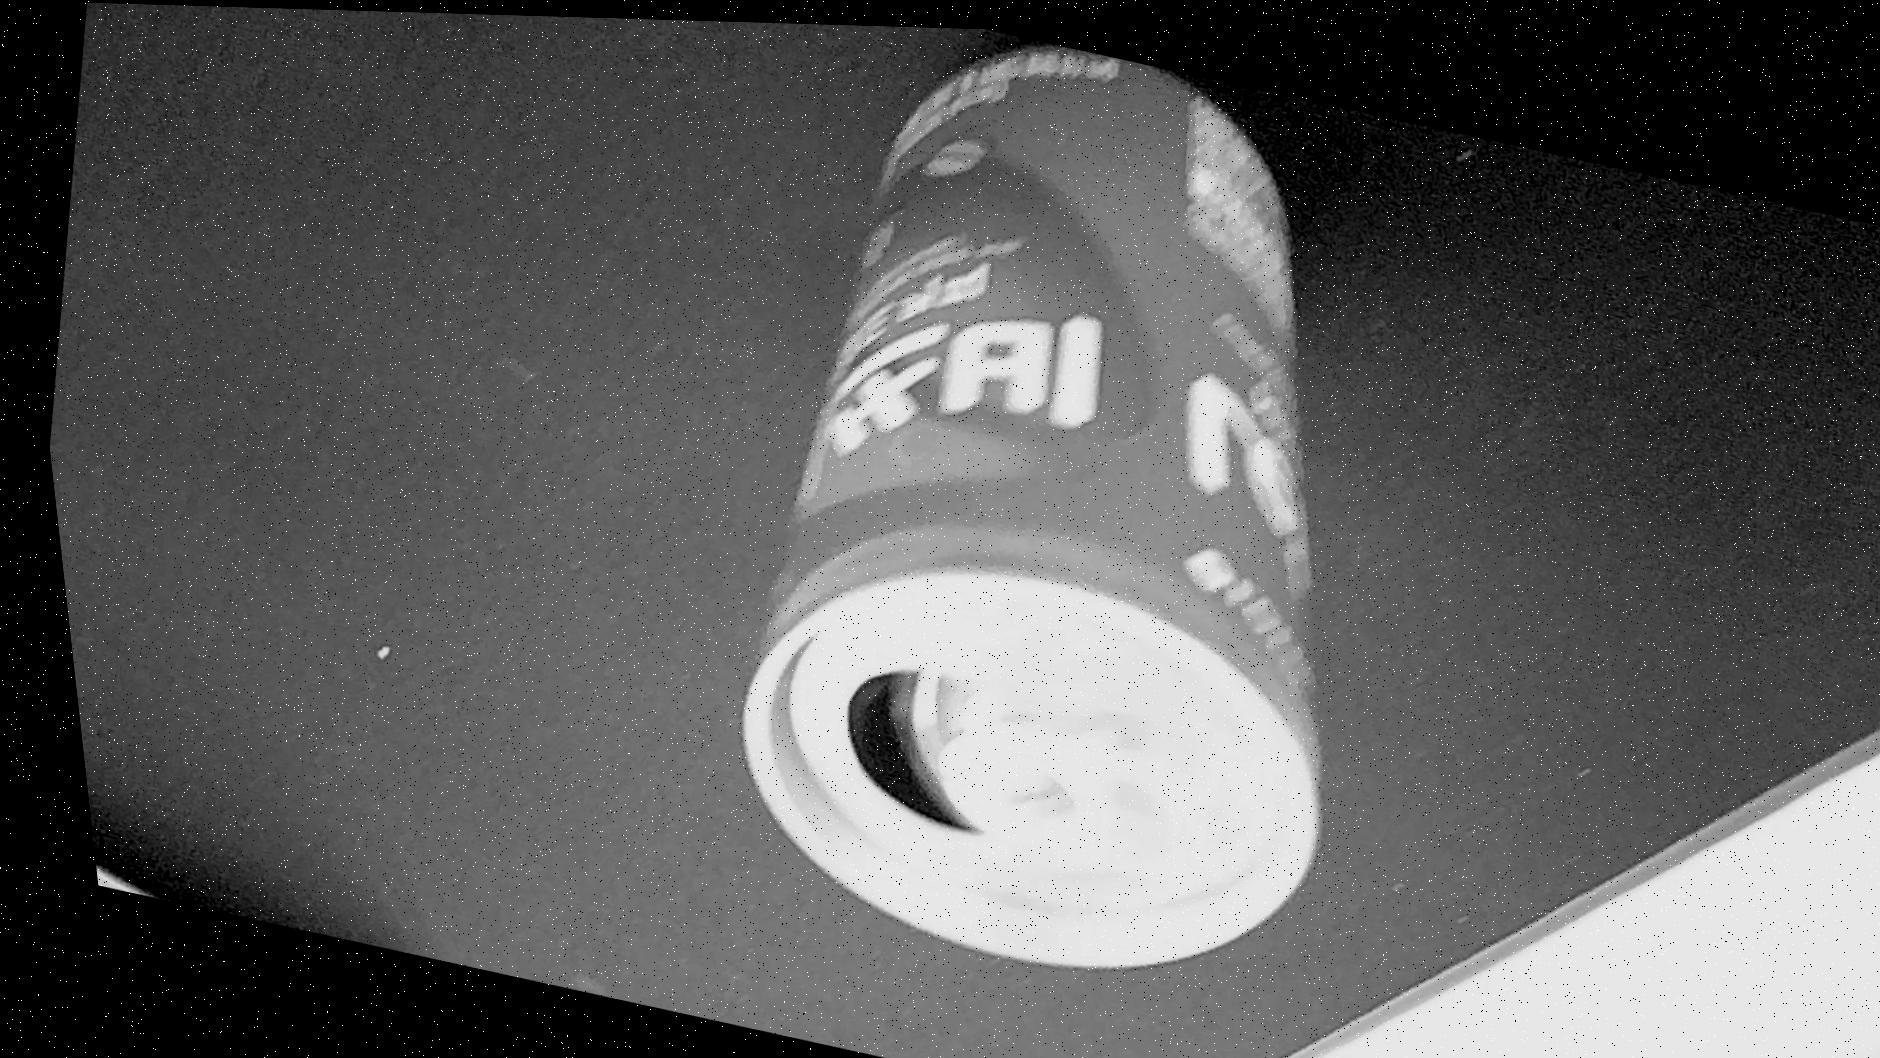letsbe: (626, 14, 1459, 1021)
